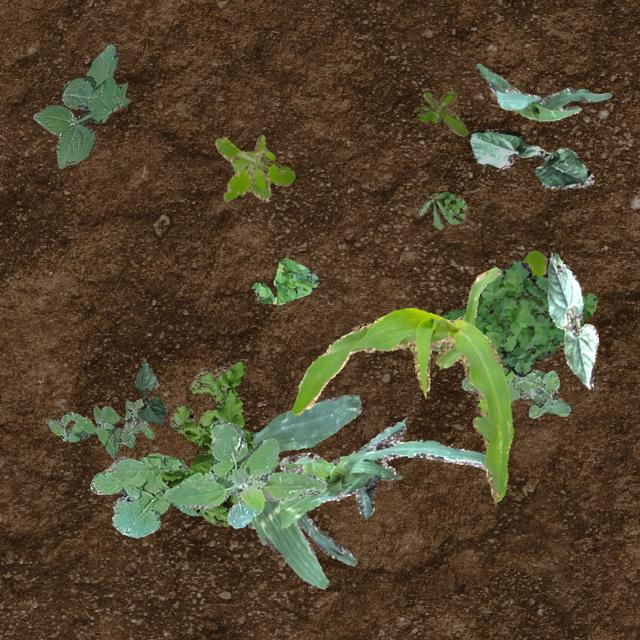crop: (292, 266, 512, 502), (244, 392, 360, 588), (278, 418, 484, 528), (474, 62, 610, 120), (468, 128, 592, 188), (546, 252, 598, 388), (134, 359, 166, 424)
weed: (430, 258, 596, 376), (162, 420, 326, 528), (161, 360, 255, 526), (32, 44, 128, 168), (89, 452, 199, 536), (44, 398, 152, 457), (214, 134, 294, 202), (460, 368, 570, 416), (252, 258, 318, 304), (416, 90, 466, 136), (416, 190, 466, 228), (522, 250, 546, 276)
